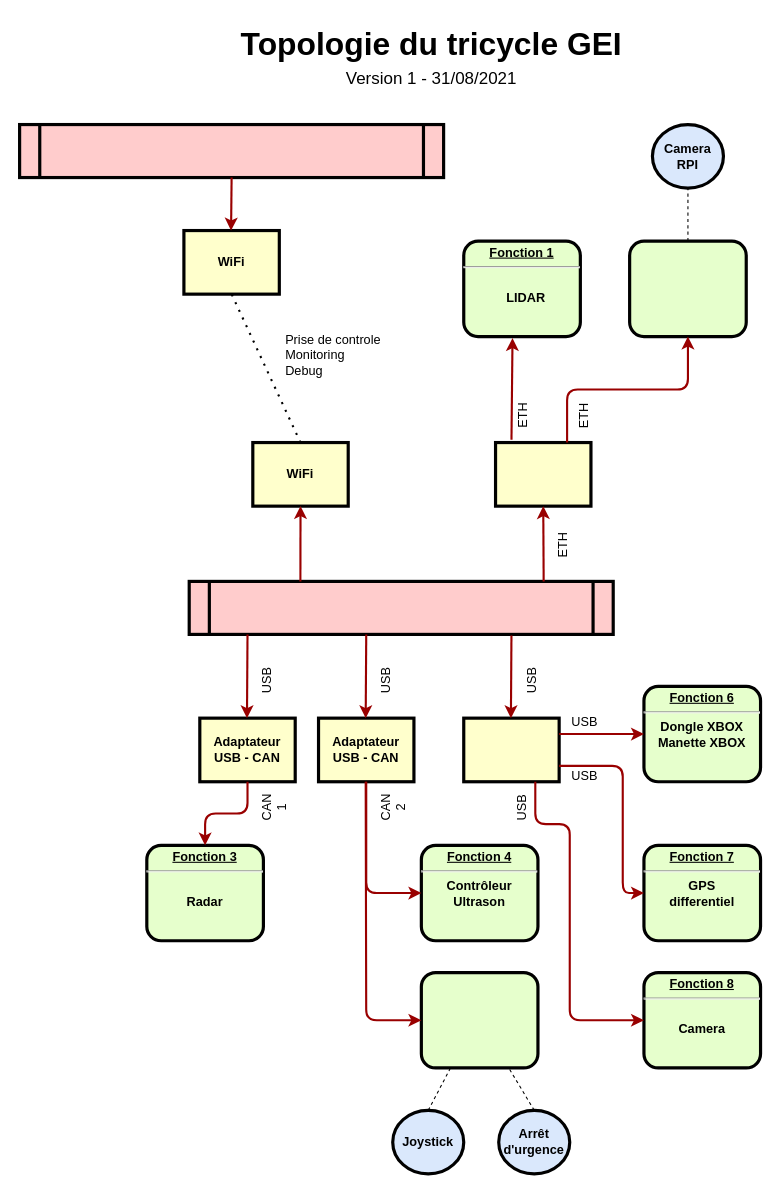
This 780x1194 diagram has some shape labels left out. The centre of each missing label's shape, as x and y in pixels:
Fonction 2 JETSON: the point at 687,288
Fonction 5 Moteur Direction Frein IMU: the point at 479,1019
Hub USB: the point at 511,749
PC portable (sol): the point at 231,150
PC portable avec carte GTX (embarqué): the point at 400,607
Switch Ethernet: the point at 542,473
